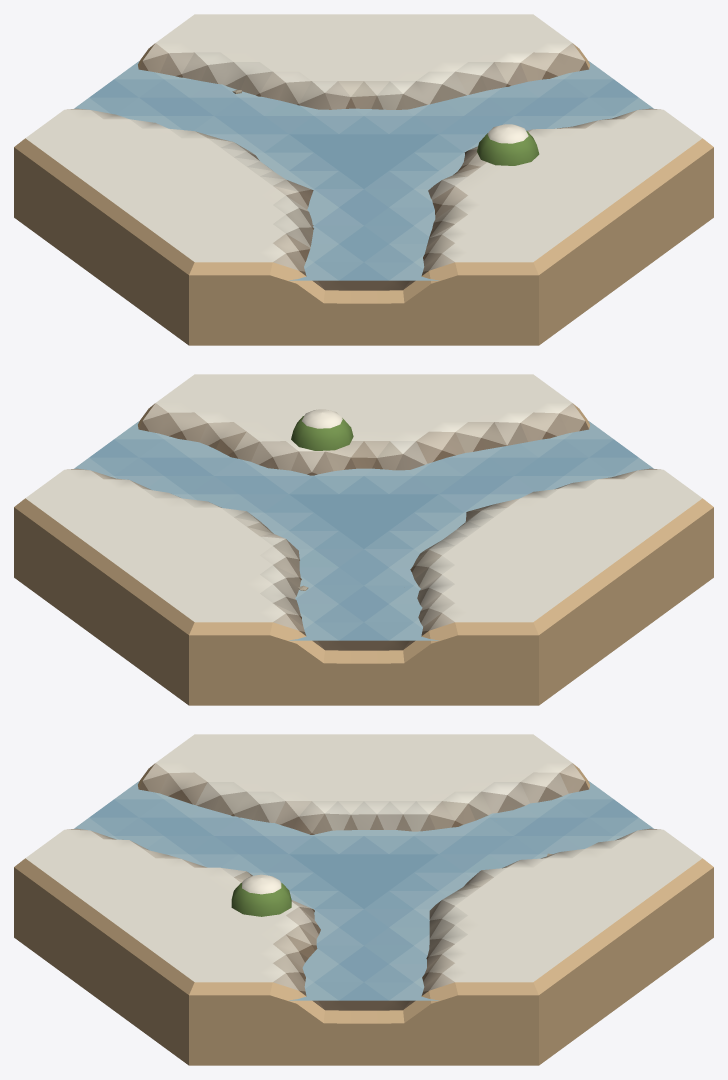
Rendered from river_fork_snow.fbx.
The picture shows the model from 3 angles, top to bottom: view 1: azimuth 30°, elevation 25°; view 2: azimuth 150°, elevation 25°; view 3: azimuth 270°, elevation 25°; orthographic projection.
Visible parts, largest first — view 1: river_fork_snow; view 2: river_fork_snow; view 3: river_fork_snow.
Part boxes in pixels (x1=…): river_fork_snow: x1=14, y1=14, x2=713, y2=345; river_fork_snow: x1=14, y1=374, x2=713, y2=705; river_fork_snow: x1=14, y1=734, x2=713, y2=1065.
Bounding box in the file's own units: 1.73 × 0.331 × 2.
